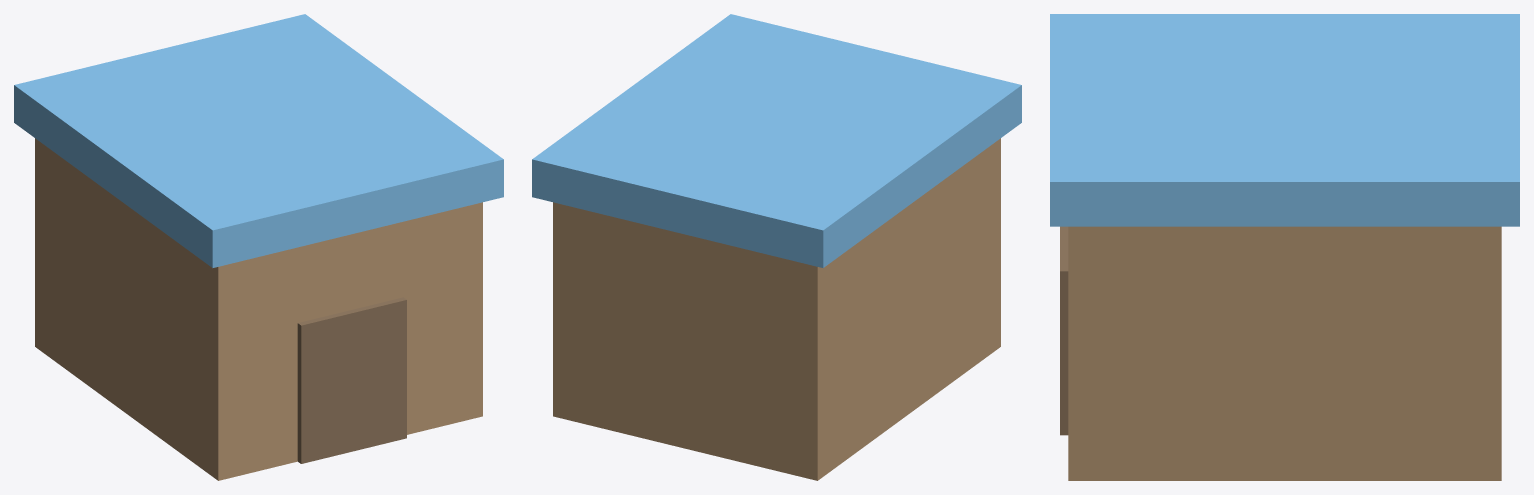
File: Prop_Pet_AMF_Kennel_V2.glb
3 renders of one model, left to right at view 1: azimuth 30°, elevation 25°; view 2: azimuth 150°, elevation 25°; view 3: azimuth 270°, elevation 25°, orthographic. The views are drawn at different scales.
Parts seen in each view (by area): view 1: Prop_Pet_AMF_Kennel_V2; view 2: Prop_Pet_AMF_Kennel_V2; view 3: Prop_Pet_AMF_Kennel_V2.
Boxes of the visible parts, left/top/right/bottom form: Prop_Pet_AMF_Kennel_V2: left=14, top=14, right=503, bottom=480; Prop_Pet_AMF_Kennel_V2: left=532, top=14, right=1021, bottom=480; Prop_Pet_AMF_Kennel_V2: left=1050, top=14, right=1519, bottom=480.
Size of the model in its own units: 1.21 by 1.03 by 1.43.
